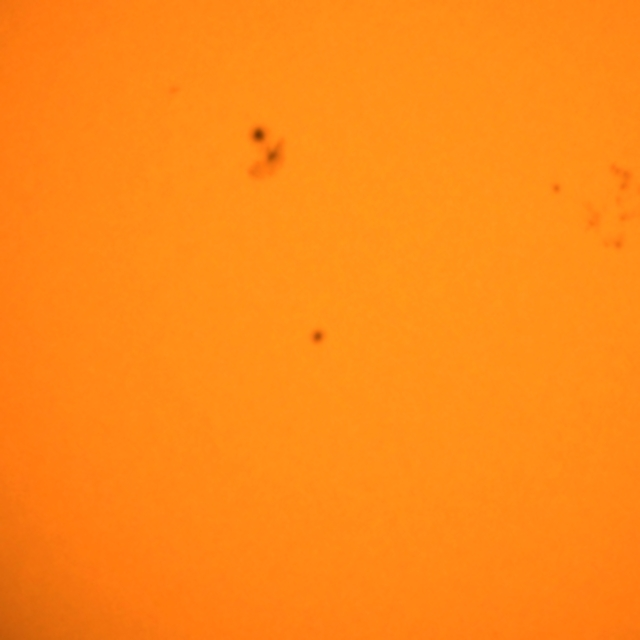sunspot: (243, 121, 289, 173), (607, 160, 634, 195), (306, 325, 330, 350), (548, 180, 564, 198)
